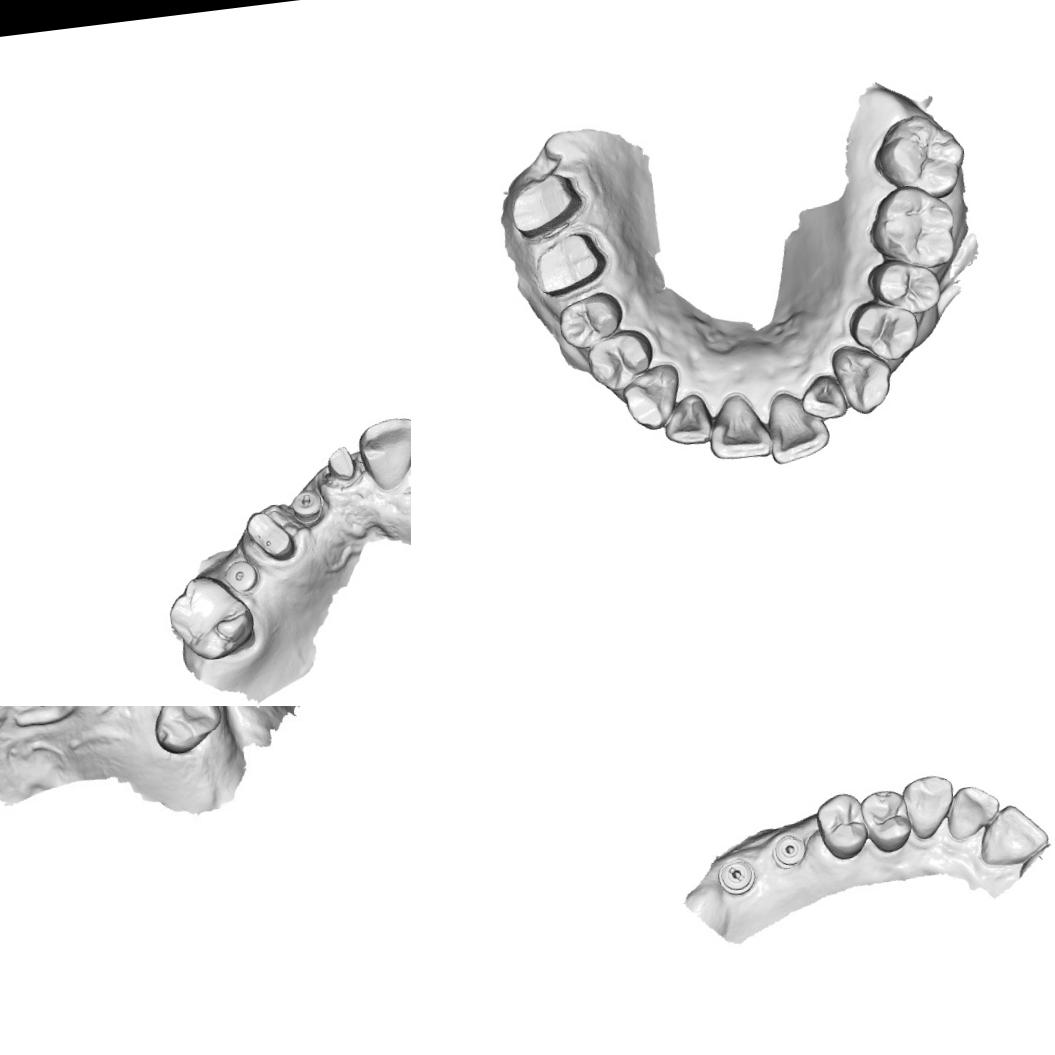canine: (828, 340, 896, 418), (618, 361, 686, 434), (900, 772, 960, 842)
crown: (505, 169, 590, 241), (528, 226, 612, 298), (240, 506, 300, 566), (322, 439, 361, 488)
implant: (768, 830, 810, 872), (220, 558, 262, 596)
implant_minus: (715, 856, 759, 898), (287, 486, 327, 530)
incisor: (764, 386, 834, 467), (973, 800, 1052, 870), (704, 390, 774, 464), (353, 413, 411, 496), (942, 781, 1004, 844), (660, 390, 715, 448), (796, 370, 849, 424)
molar: (868, 109, 971, 206), (864, 179, 960, 275), (162, 570, 258, 665)
premolar: (845, 294, 923, 367), (582, 325, 658, 396), (864, 253, 944, 318), (554, 289, 628, 352), (812, 789, 872, 865), (147, 706, 228, 758), (858, 787, 915, 856)
